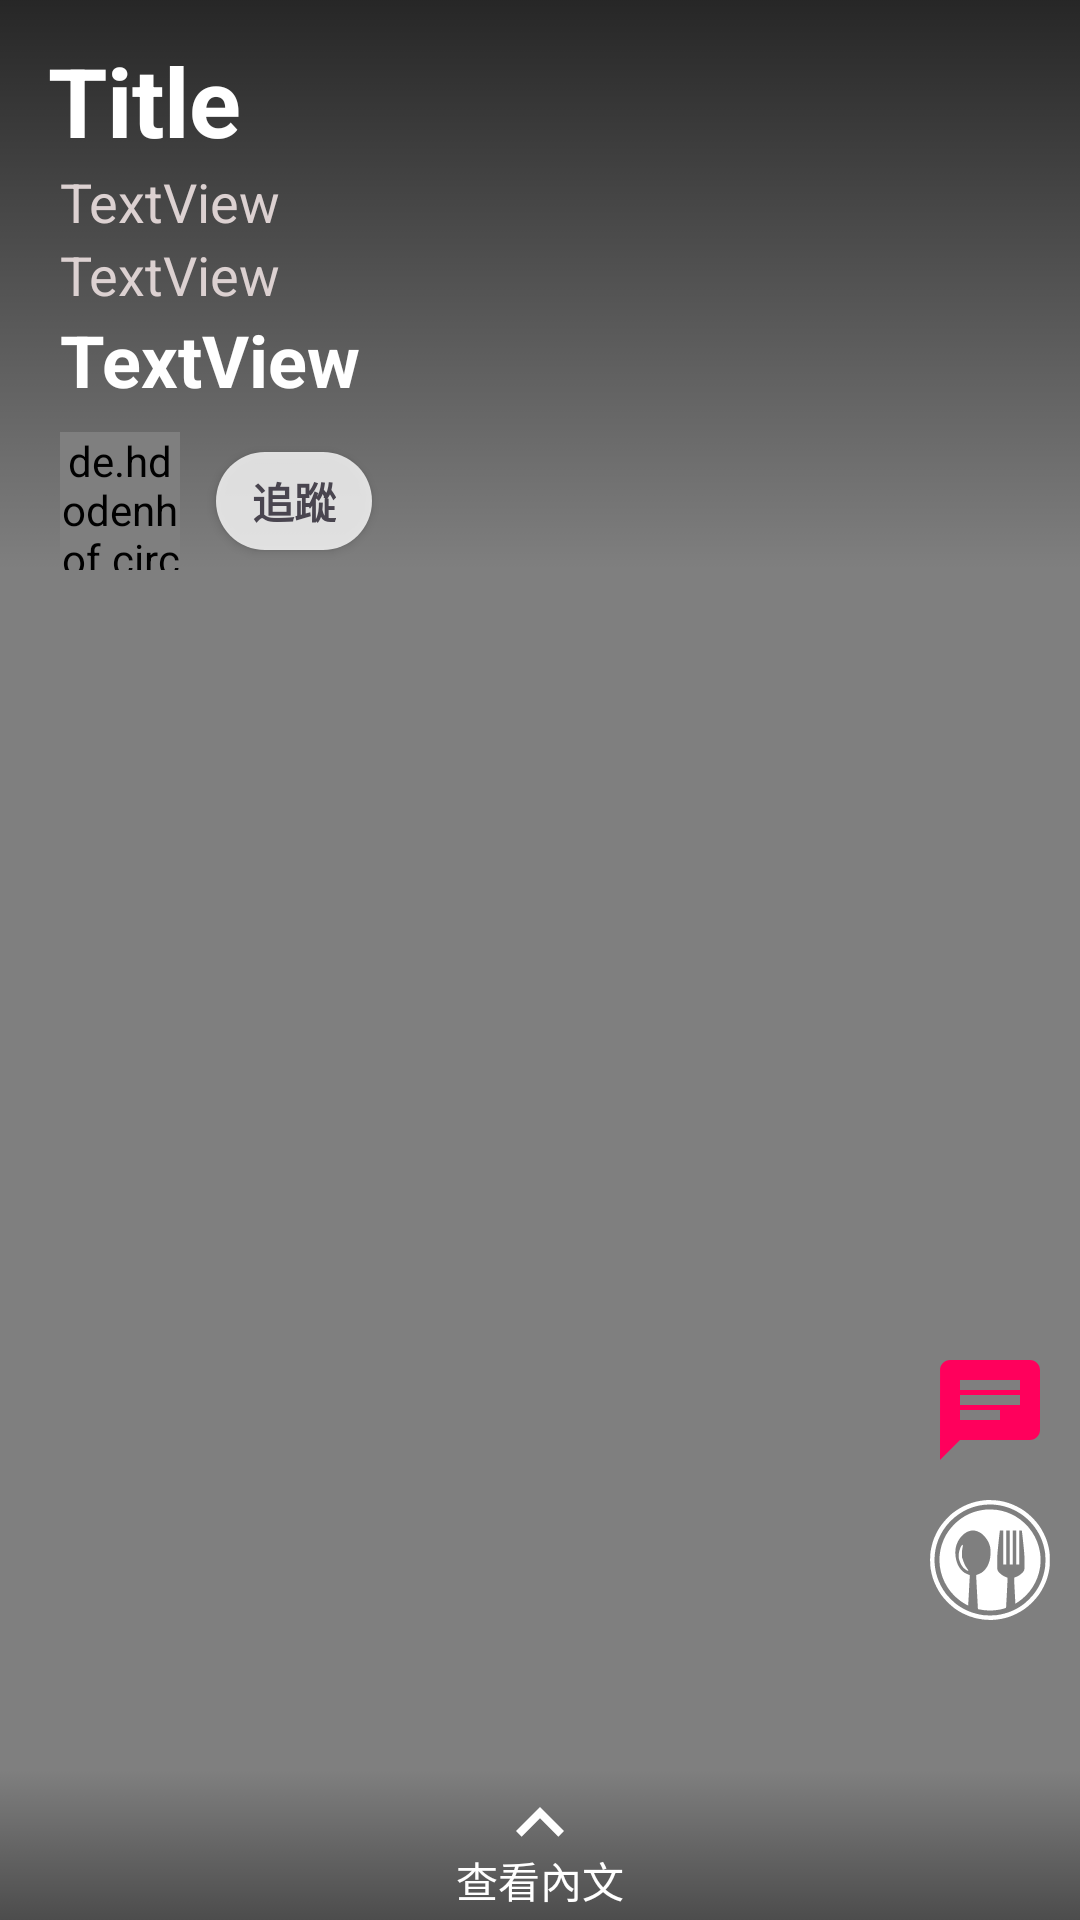

Icon bounding boxes for this 1080px x 1920px phone screenshot, format box=[x1, y1, x2, y2]:
chat: box=[940, 1360, 1040, 1460]
foodsearch: box=[930, 1500, 1050, 1620]
